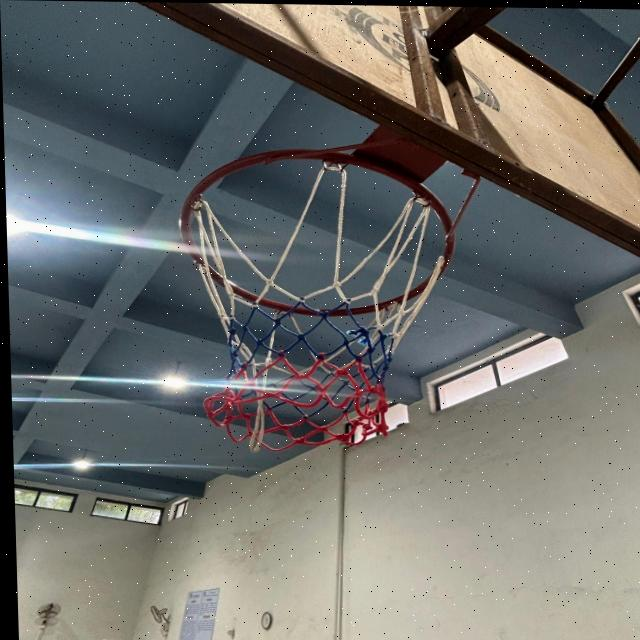hoop: (123, 162, 492, 494)
